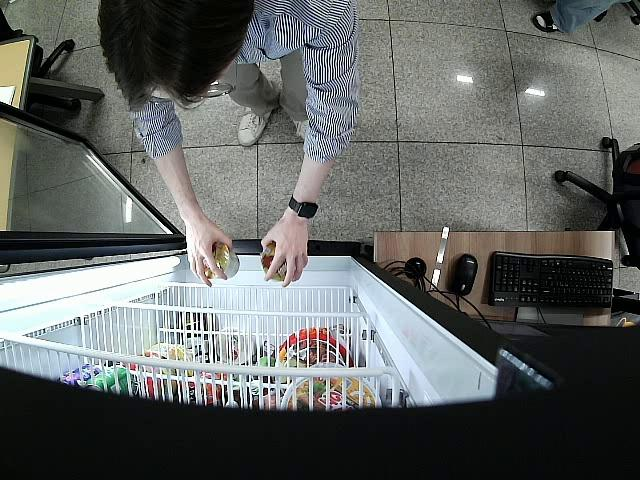00_hand: (259, 222, 310, 288), (187, 225, 234, 288)
04_chapagetti_S: (259, 240, 302, 282), (199, 238, 242, 279)
